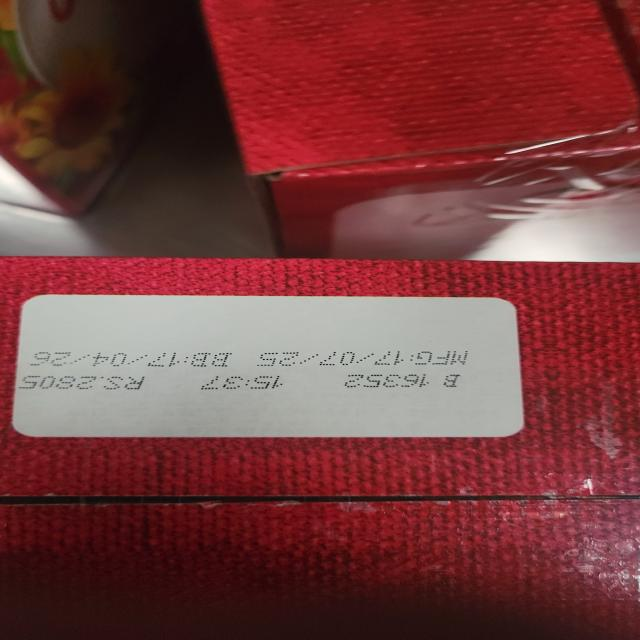BB: (30, 352, 238, 368)
Batch: (338, 373, 464, 388)
MFG: (259, 350, 473, 366)
RS: (16, 375, 147, 391)
TimeStamp: (198, 376, 288, 390)
